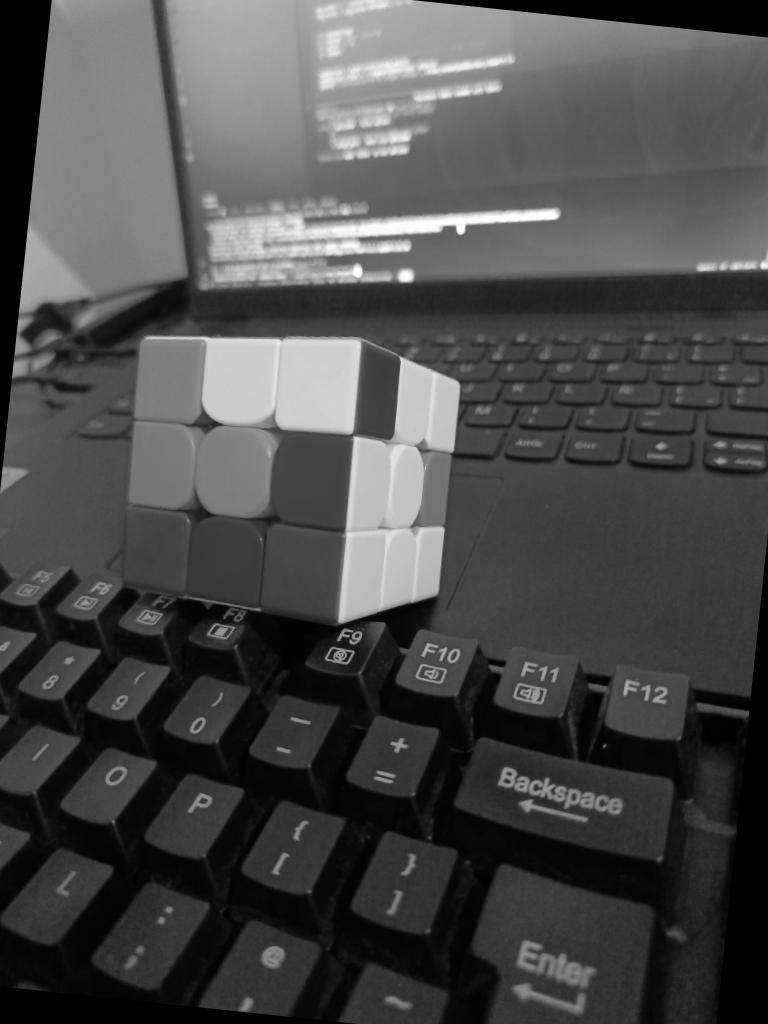rubik: (109, 314, 468, 636)
